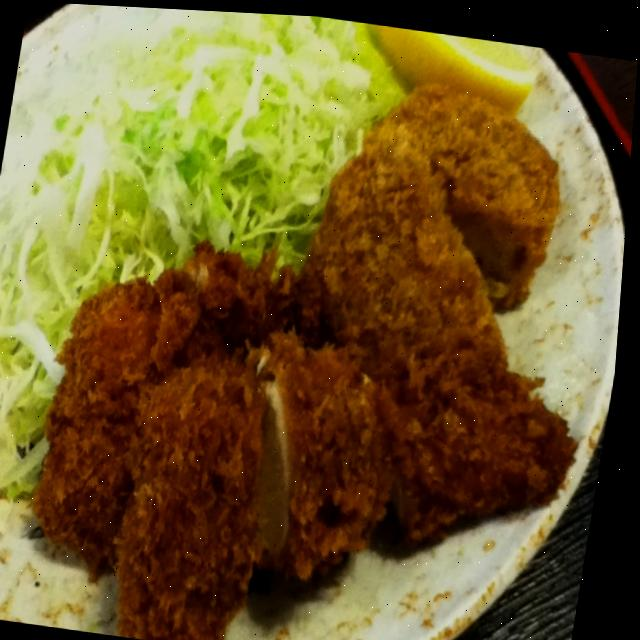鸡肉料理 含炸鸡: (0, 27, 637, 640)
